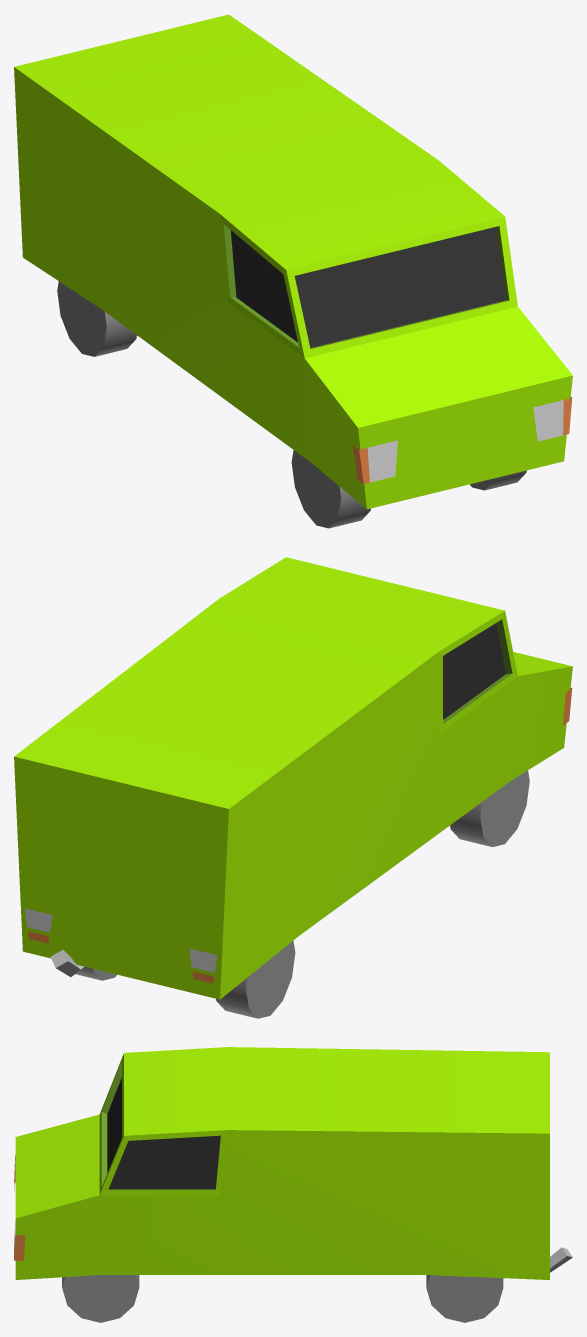
The model's file is van_07.fbx.
The picture shows the model from 3 angles, top to bottom: view 1: azimuth 30°, elevation 25°; view 2: azimuth 150°, elevation 25°; view 3: azimuth 270°, elevation 25°; orthographic projection. The views are drawn at different scales.
Visible parts, largest first — view 1: van_07; view 2: van_07; view 3: van_07.
Boxes of the visible parts, x1,y1,x2,y2 form: van_07: (14, 14, 572, 528); van_07: (14, 557, 572, 1018); van_07: (14, 1047, 572, 1322).
Size of the model in its own units: 1.61 by 1.8 by 4.59.
